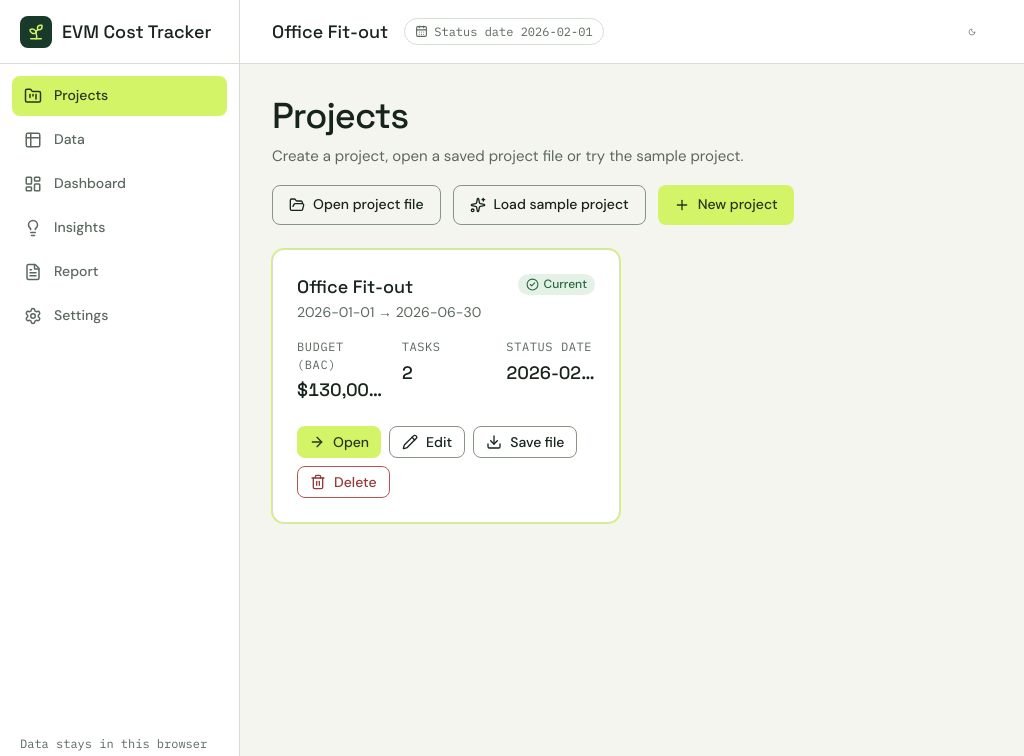
Scenario: Projects page (FR-01, FR-09) › CT-PRJ-05 sidebar navigation marks the current page
Expected: the text with test id "current-project" reads "Office Fit-out", [272,20,388,43]
Click the button "Report".
click(120, 272)  # box [12,252,227,292]
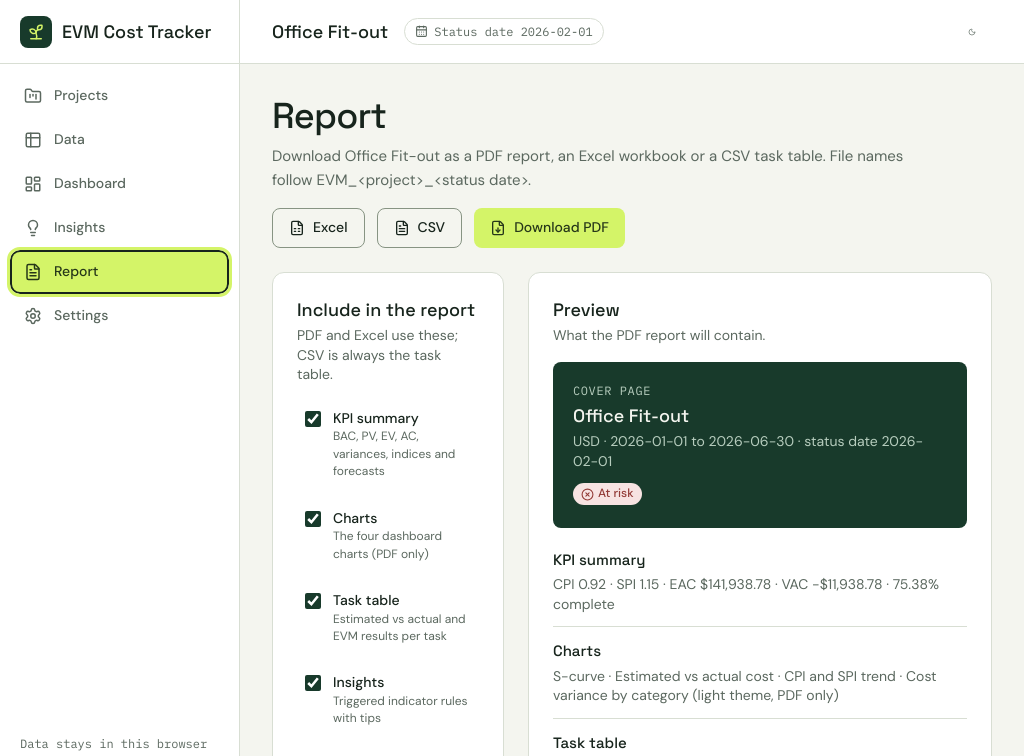
Expected: the heading "Report" is shown, [272,93,386,139]
